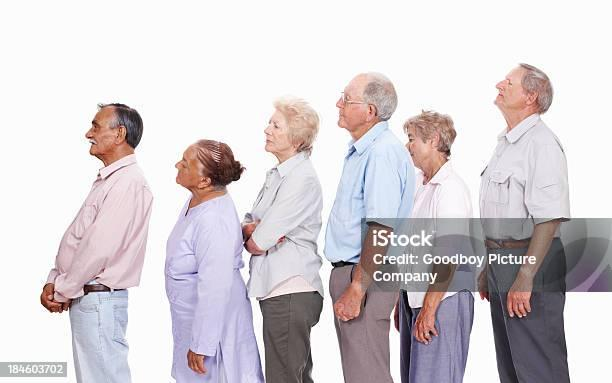dress: (163, 191, 263, 383)
long sleeve shirt: (47, 154, 155, 302), (241, 150, 326, 298)
short sleeve shirt: (323, 123, 417, 266), (399, 158, 484, 305), (476, 111, 570, 240)
trousers: (483, 234, 571, 383), (329, 259, 404, 383), (397, 269, 477, 383), (67, 279, 135, 383), (257, 291, 323, 383)
